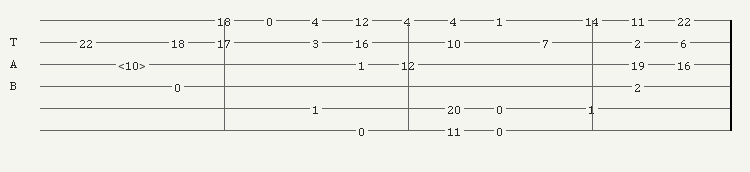0: (174, 80, 185, 92), (266, 14, 277, 26), (358, 124, 369, 136), (496, 124, 507, 136), (496, 102, 507, 114)
1: (312, 102, 323, 114), (358, 58, 369, 70), (496, 14, 507, 26), (588, 102, 599, 114)
10: (447, 36, 465, 48)
11: (447, 124, 465, 136), (631, 14, 649, 26)
12: (355, 14, 373, 26), (401, 58, 419, 70)
14: (585, 14, 603, 26)
16: (355, 36, 373, 48), (677, 58, 695, 70)
17: (217, 36, 235, 48)
18: (171, 36, 189, 48), (217, 14, 235, 26)
19: (631, 58, 649, 70)
2: (634, 36, 645, 48), (634, 80, 645, 92)
20: (447, 102, 465, 114)
22: (79, 36, 97, 48), (677, 14, 695, 26)
3: (312, 36, 323, 48)
4: (312, 14, 323, 26), (404, 14, 415, 26), (450, 14, 461, 26)
6: (680, 36, 691, 48)
7: (542, 36, 553, 48)
harmonic: (118, 58, 150, 70)
